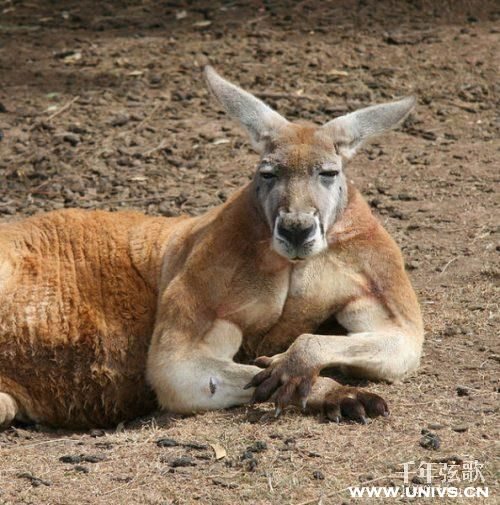kangaroo: (2, 59, 442, 439)
